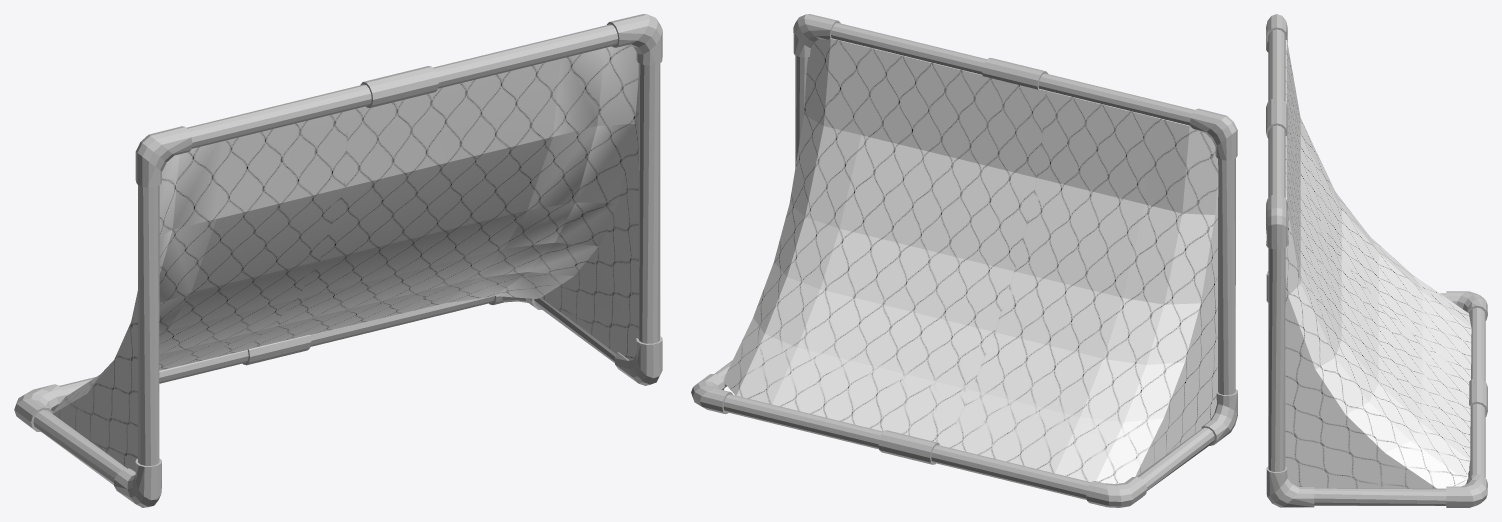
Rendered from Large Goal.fbx.
3 renders of one model, left to right at view 1: azimuth 30°, elevation 25°; view 2: azimuth 150°, elevation 25°; view 3: azimuth 270°, elevation 25°, orthographic. The views are drawn at different scales.
Visible parts, largest first — view 1: net_low.001, net_low; view 2: net_low.001, net_low; view 3: net_low.001, net_low.
Boxes of the visible parts, x1,y1,x2,y2 form: net_low.001: (52,45,638,471); net_low: (14,14,662,507); net_low.001: (724,38,1218,483); net_low: (691,14,1237,507); net_low.001: (1285,40,1471,488); net_low: (1266,14,1487,507).
Size of the model in its own units: 377 by 257 by 173.
